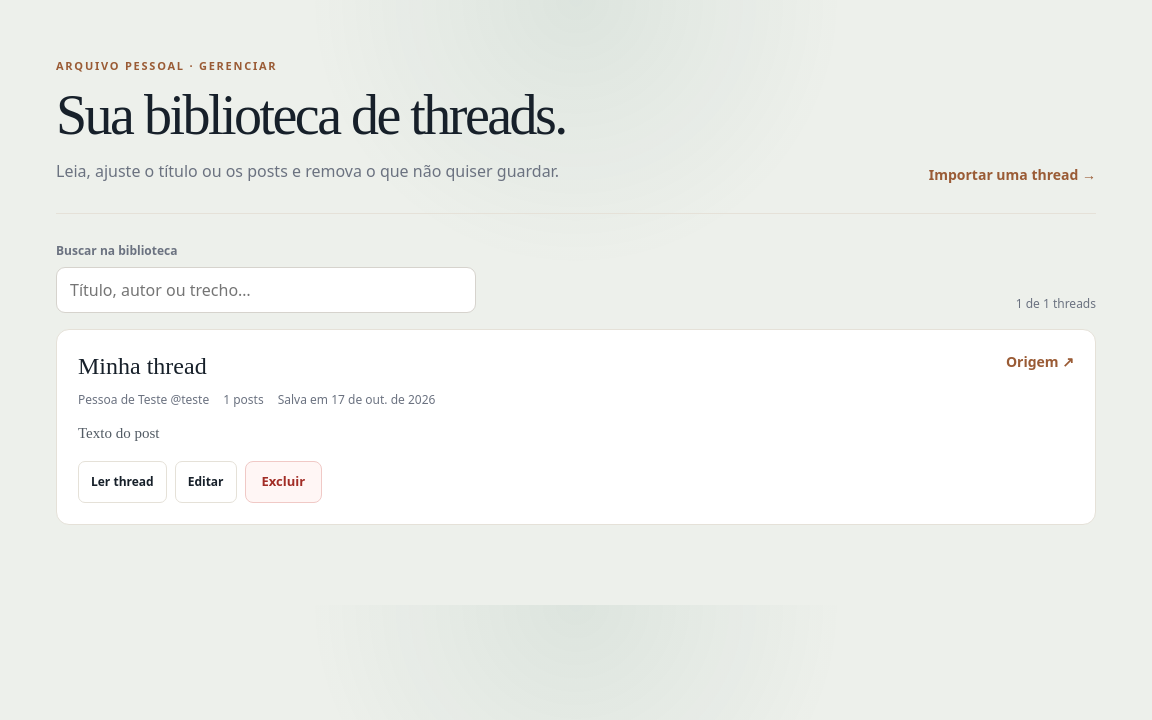
Test case: focuses the edit dialog and restores focus to its opener on Escape
Click the button "Editar" at (206, 482), box x1=175 y1=461 x2=237 y2=503
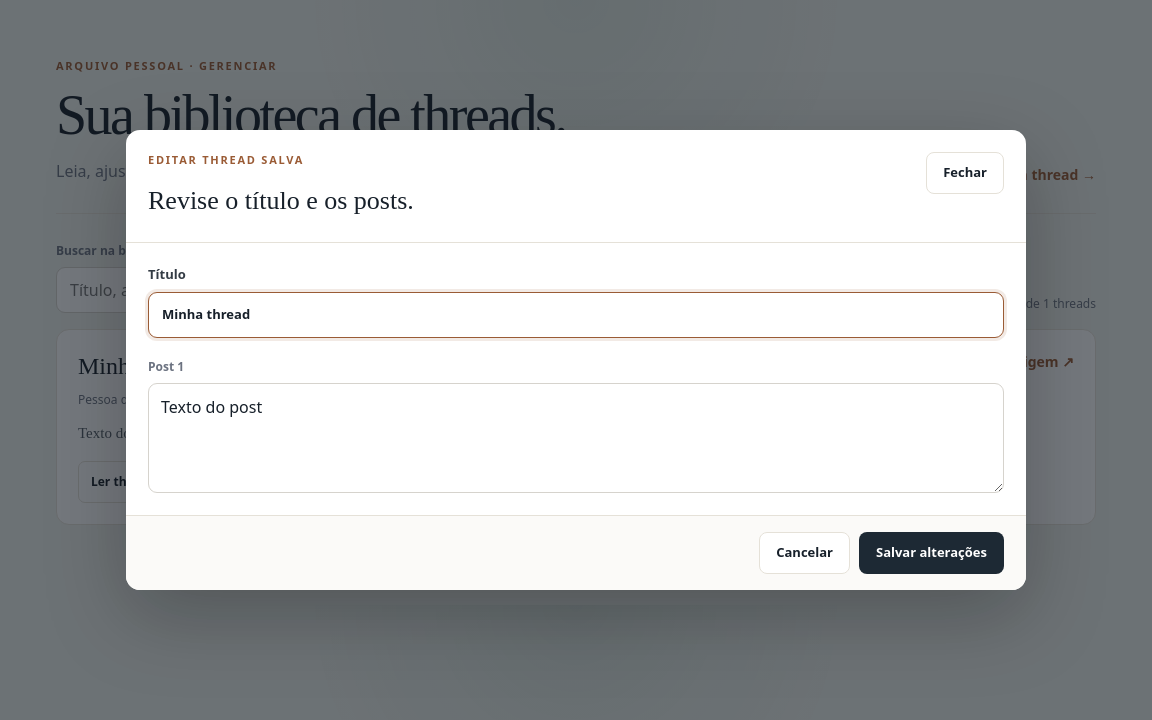
expect the dialog "Revise o título e os posts." is shown: met, box x1=126 y1=130 x2=1026 y2=590
Press Escape in the field labelled "Título", box x1=148 y1=292 x2=1004 y2=338
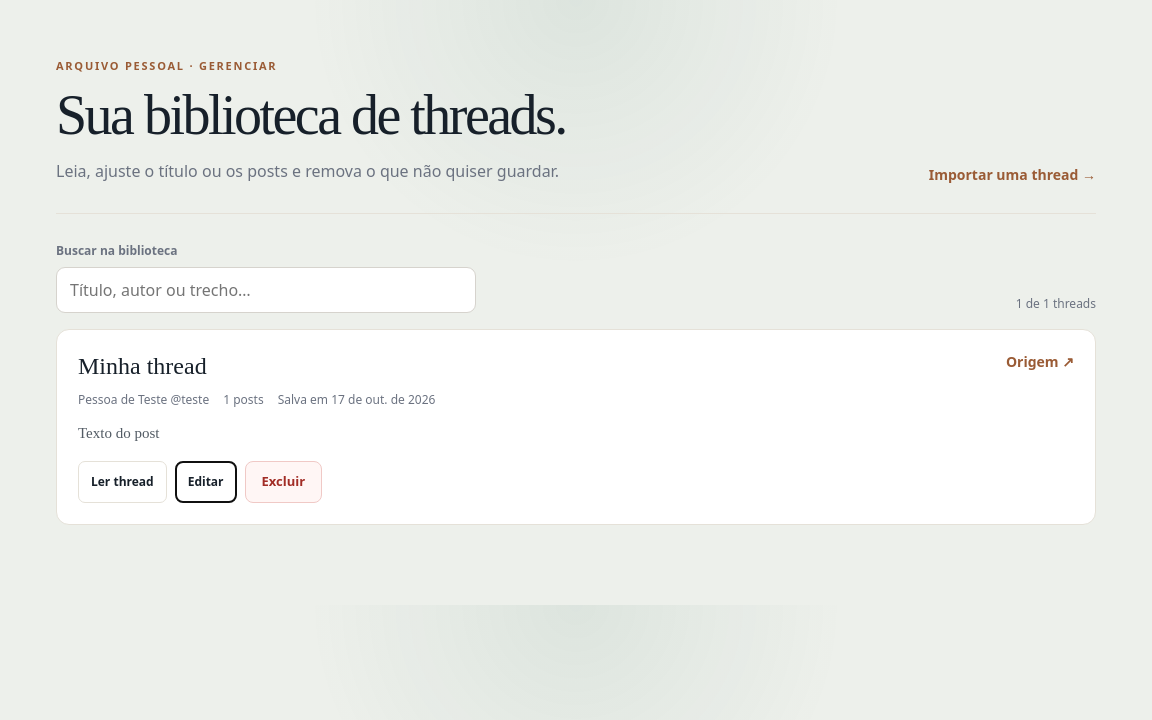
expect the dialog is gone: met
